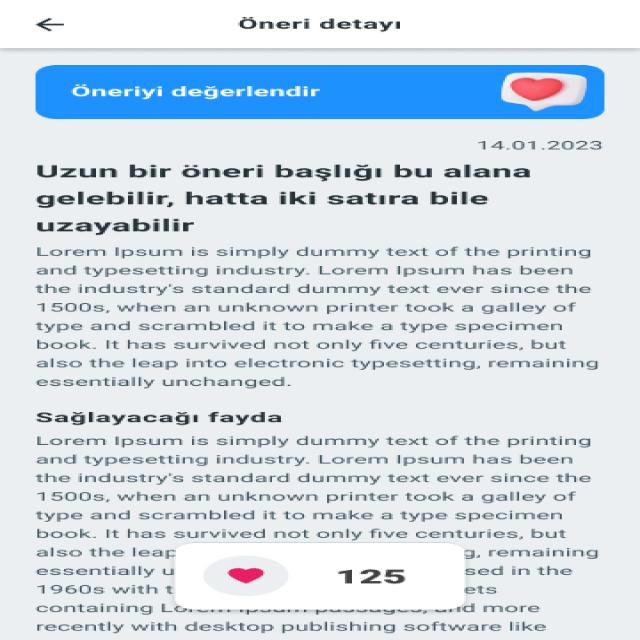QLabel: (16, 432, 609, 635), (17, 247, 605, 390), (24, 161, 538, 236), (66, 83, 320, 100), (34, 409, 284, 425), (232, 16, 406, 32), (477, 138, 609, 154), (331, 566, 414, 588)
VAppBar: (0, 0, 640, 49)
VCard: (33, 66, 607, 120), (174, 542, 465, 610)
VIcon: (31, 17, 65, 33)
VImg: (197, 553, 293, 600), (494, 71, 590, 115)
